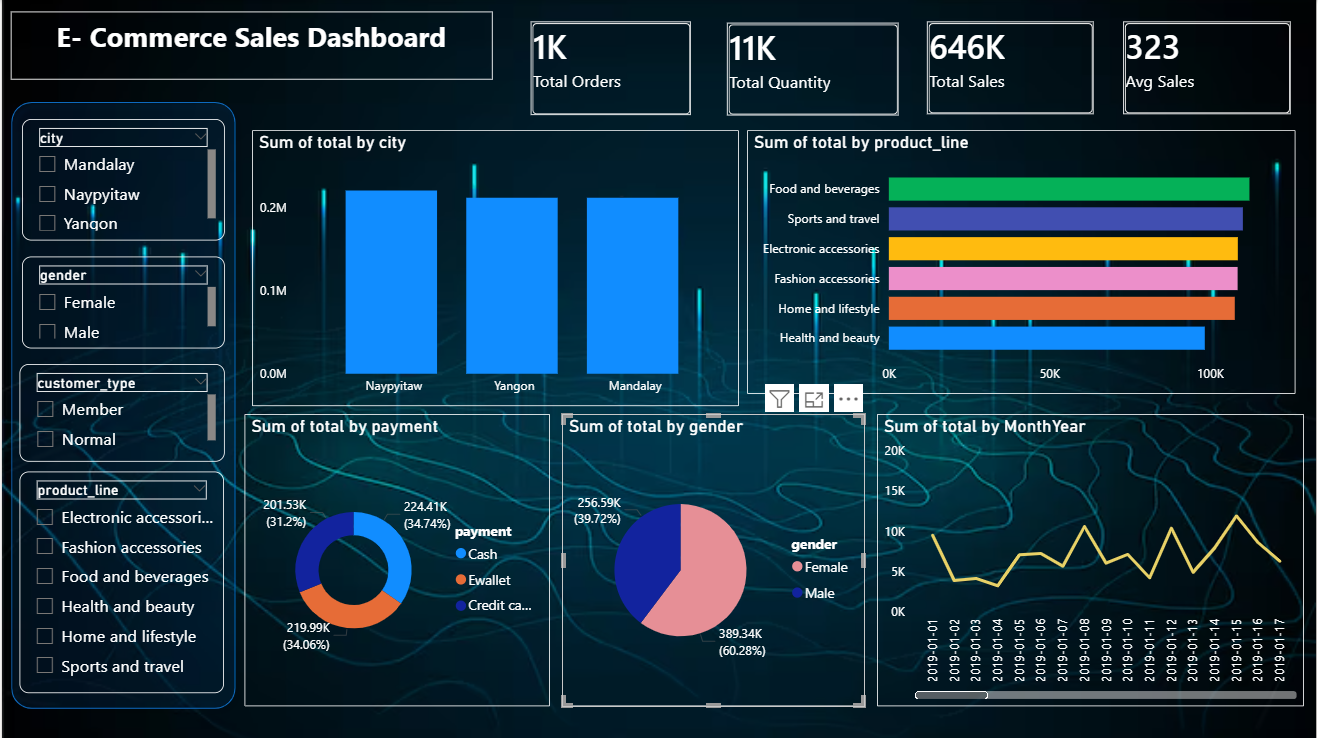

This screenshot's page, from the dashboard's own definition file:
{"tool":"powerbi","page":{"name":"Page 1","canvas":[1280,720],"ordinal":0},"visuals":[{"type":"textbox","box":[8.4,12.1,469.3,66.4],"z":0},{"type":"cardVisual","fields":{"Data":["sales_data.Total Quantity"]},"box":[700.9,18.1,177.3,100.1],"z":2000},{"type":"cardVisual","fields":{"Data":["sales_data.Total Sales"]},"box":[896.4,16.9,172.5,100.1],"z":3000},{"type":"cardVisual","fields":{"Data":["sales_data.Avg Sales"]},"box":[1087,16.9,173.7,100.1],"z":4000},{"type":"barChart","fields":{"Y":["Sum(sales_data.total)"],"Category":["sales_data.product_line"]},"box":[726.3,127.9,534.5,257],"z":5000},{"type":"columnChart","fields":{"Category":["sales_data.city"],"Y":["Sum(sales_data.total)"]},"box":[243.7,127.9,474.1,269],"z":6000},{"type":"pieChart","fields":{"Y":["Sum(sales_data.total)"],"Category":["sales_data.gender"]},"box":[545.3,404.2,295.6,284.7],"z":7000},{"type":"shape","box":[0,91.7,236.5,609.3],"z":8000},{"type":"slicer","fields":{"Values":["sales_data.city"]},"box":[19.3,117,197.9,118.2],"z":9000},{"type":"slicer","fields":{"Values":["sales_data.gender"]},"box":[19.3,250.9,197.9,89.3],"z":10000},{"type":"slicer","fields":{"Values":["sales_data.customer_type"]},"box":[16.9,355.9,200.3,95.3],"z":11000},{"type":"slicer","fields":{"Values":["sales_data.product_line"]},"box":[16.9,460.9,199.1,216],"z":12000},{"type":"lineChart","fields":{"Y":["Sum(sales_data.total)"],"Category":["sales_data.MonthYear"]},"box":[853,404.2,416.2,284.7],"z":13000},{"type":"cardVisual","fields":{"Data":["sales_data.Total Orders"]},"box":[510.3,16.9,166.5,101.3],"z":13001},{"type":"donutChart","fields":{"Category":["sales_data.payment"],"Y":["Sum(sales_data.total)"]},"box":[236.5,404.2,298,284.7],"z":13002}]}

Visuals, with their boxes in screenshot pixels (x1, y1, x2, y2), scaled from the page's 1280x720 canvas onto the 1318x738 screenshot:
textbox: box=[9, 12, 492, 80]
cardVisual - sales_data.Total Quantity: box=[722, 19, 904, 121]
cardVisual - sales_data.Total Sales: box=[923, 17, 1101, 120]
cardVisual - sales_data.Avg Sales: box=[1119, 17, 1298, 120]
barChart - Sum(sales_data.total) x sales_data.product_line: box=[748, 131, 1298, 395]
columnChart - sales_data.city x Sum(sales_data.total): box=[251, 131, 739, 407]
pieChart - Sum(sales_data.total) x sales_data.gender: box=[561, 414, 866, 706]
shape: box=[0, 94, 244, 719]
slicer - sales_data.city: box=[20, 120, 224, 241]
slicer - sales_data.gender: box=[20, 257, 224, 349]
slicer - sales_data.customer_type: box=[17, 365, 224, 462]
slicer - sales_data.product_line: box=[17, 472, 222, 694]
lineChart - Sum(sales_data.total) x sales_data.MonthYear: box=[878, 414, 1307, 706]
cardVisual - sales_data.Total Orders: box=[525, 17, 697, 121]
donutChart - sales_data.payment x Sum(sales_data.total): box=[244, 414, 550, 706]
